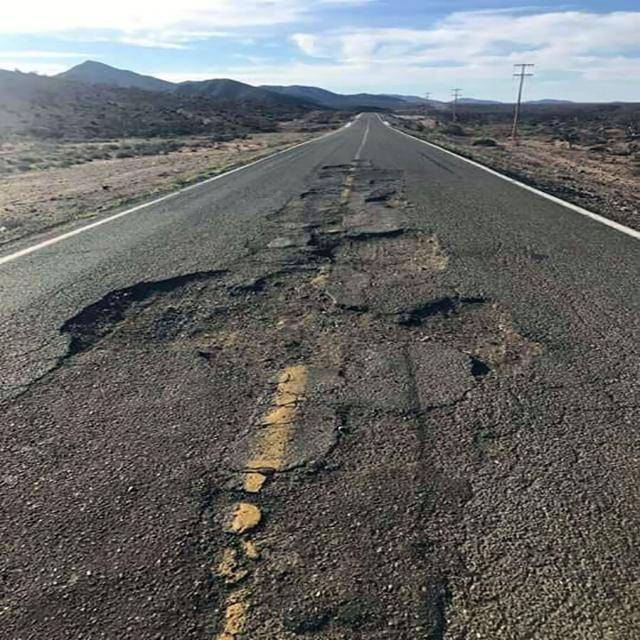Pothole: (61, 150, 440, 408), (313, 273, 537, 446)
